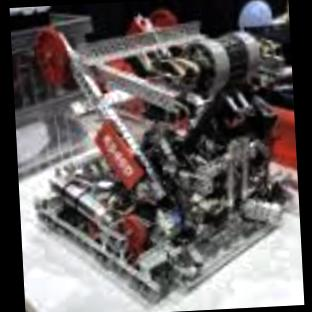Robot: (34, 22, 284, 300)
